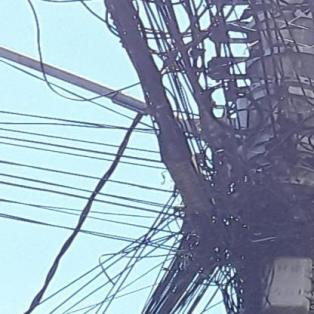Poste: (225, 0, 314, 314)
